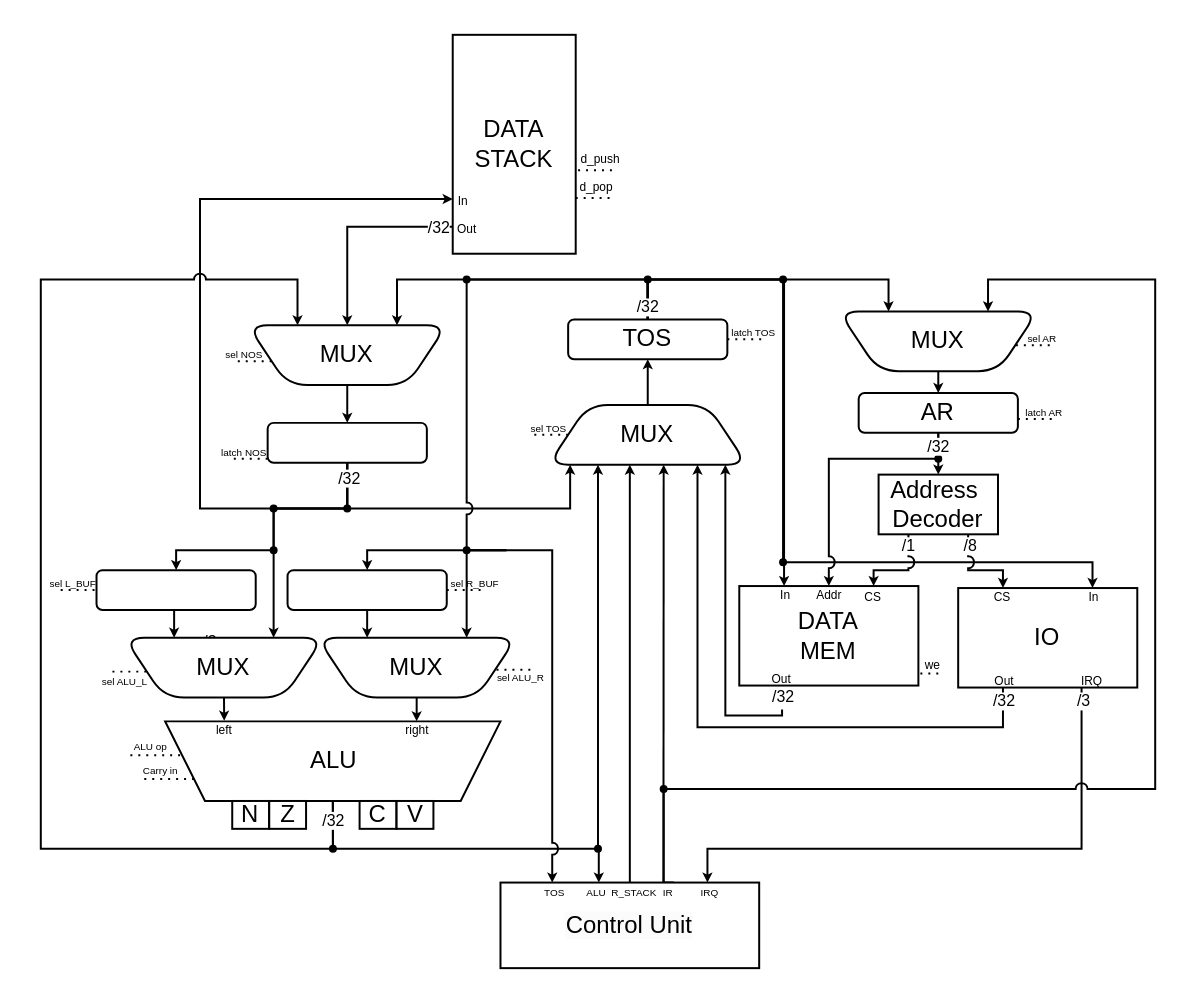
This 1198x1003 diagram has some shape labels left out. The centre of each missing label's shape, as x and y in pixels:
"L_BUF" goes at (x=175, y=589).
"NOS" goes at (x=346, y=442).
"R_BUF" goes at (x=366, y=589).
